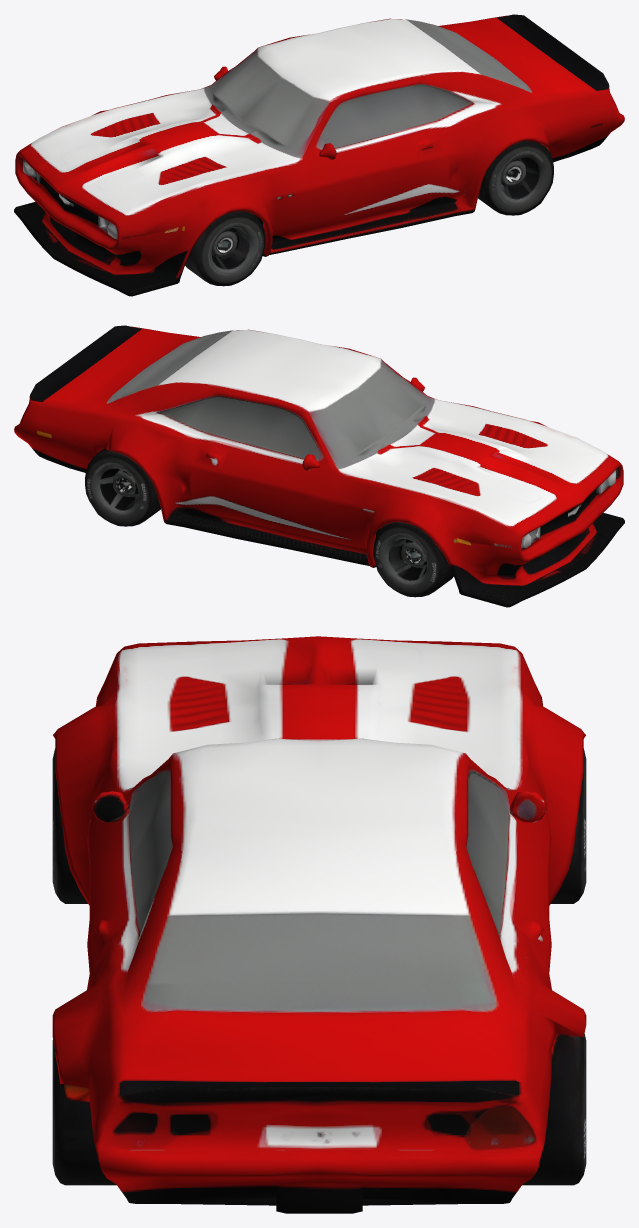
3 renders of one model, top to bottom at view 1: azimuth 30°, elevation 25°; view 2: azimuth 150°, elevation 25°; view 3: azimuth 270°, elevation 25°, orthographic. The views are drawn at different scales.
Bounding box in the file's own units: 1.9 × 0.4892 × 0.8493.
1 material, 1 textured.
